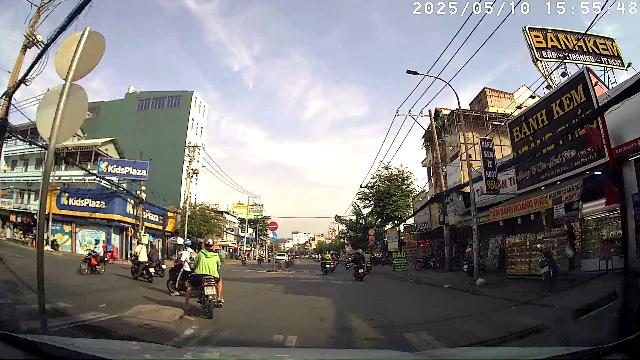102-cam-di-nguoc-chieu: (268, 221, 278, 231)
302a-huong-phai-di-vong-chuong-ngai-vat-1: (269, 232, 278, 241)
